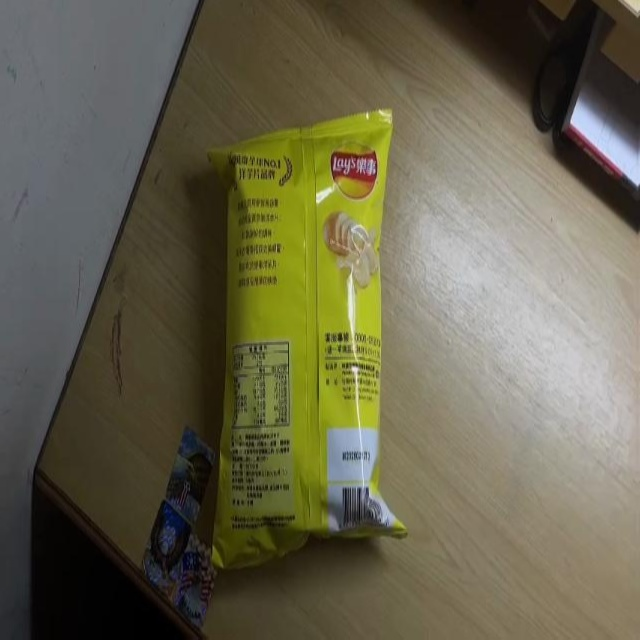Lay-s-original: (207, 107, 411, 573)
